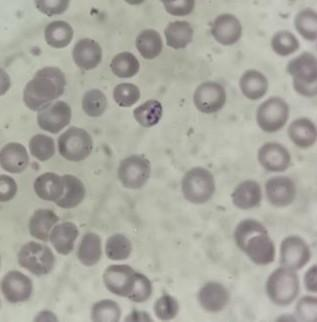Infected: (133, 98, 162, 126)
Uninfected: (23, 68, 67, 110), (233, 220, 273, 262), (18, 242, 54, 276), (183, 166, 215, 204), (36, 101, 71, 133), (266, 268, 298, 303), (57, 128, 91, 160), (118, 156, 151, 188), (255, 97, 287, 130), (53, 175, 85, 208), (34, 172, 67, 203), (28, 209, 59, 241), (192, 81, 224, 112), (104, 266, 137, 296), (279, 237, 308, 268), (2, 270, 31, 301), (257, 142, 288, 171), (210, 14, 240, 43), (72, 39, 102, 68), (231, 180, 261, 209), (51, 223, 79, 254), (198, 283, 227, 312), (265, 176, 294, 205), (0, 144, 28, 173), (290, 54, 317, 84), (135, 30, 163, 58), (77, 234, 102, 265), (29, 134, 56, 162), (165, 21, 193, 48), (110, 51, 139, 77), (239, 70, 266, 97), (123, 274, 150, 301), (44, 20, 72, 46), (81, 89, 107, 116), (287, 118, 314, 144), (113, 82, 140, 107), (106, 235, 132, 260), (294, 9, 316, 38), (93, 300, 120, 322), (154, 295, 178, 319), (272, 32, 297, 55), (296, 296, 316, 319), (0, 175, 17, 201), (124, 309, 151, 322)
